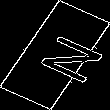N_NW: (16, 25, 94, 85)
